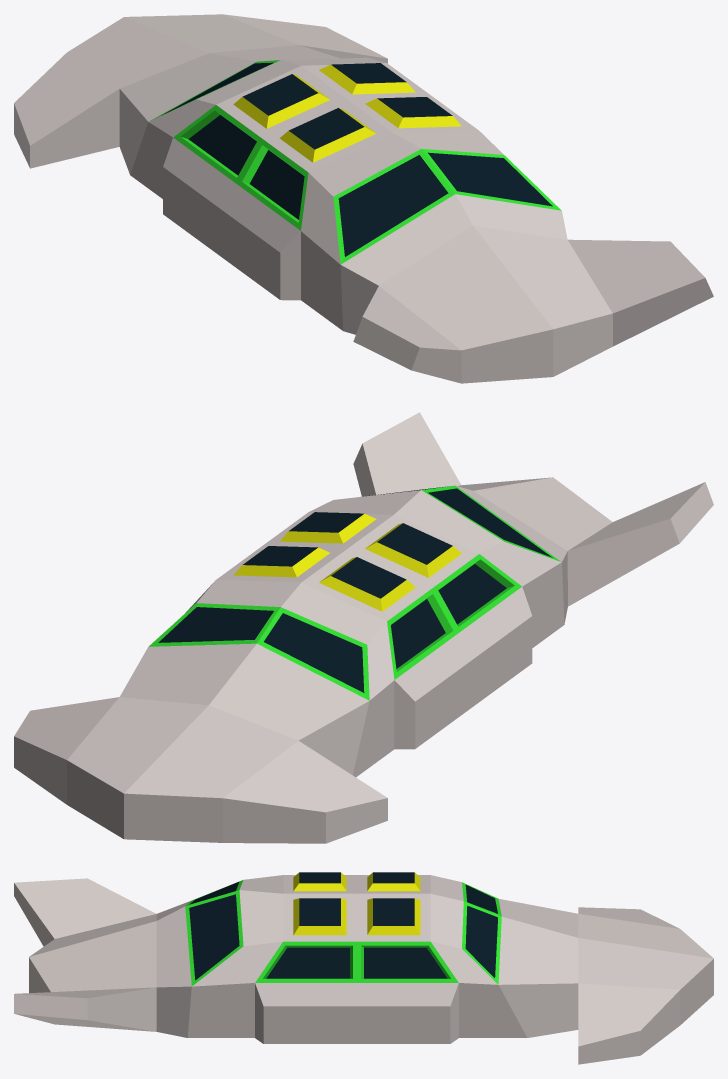
The model's file is body.gltf.
3 renders of one model, top to bottom at view 1: azimuth 30°, elevation 25°; view 2: azimuth 150°, elevation 25°; view 3: azimuth 270°, elevation 25°, orthographic. The views are drawn at different scales.
Visible parts, largest first — view 1: Actor.Body; view 2: Actor.Body; view 3: Actor.Body.
Boxes of the visible parts, x1=… form: Actor.Body: x1=14, y1=14, x2=713, y2=383; Actor.Body: x1=14, y1=412, x2=713, y2=843; Actor.Body: x1=14, y1=872, x2=713, y2=1064.
Size of what is drawn, in the model's own units: 4.85 by 1.7 by 10.3.
